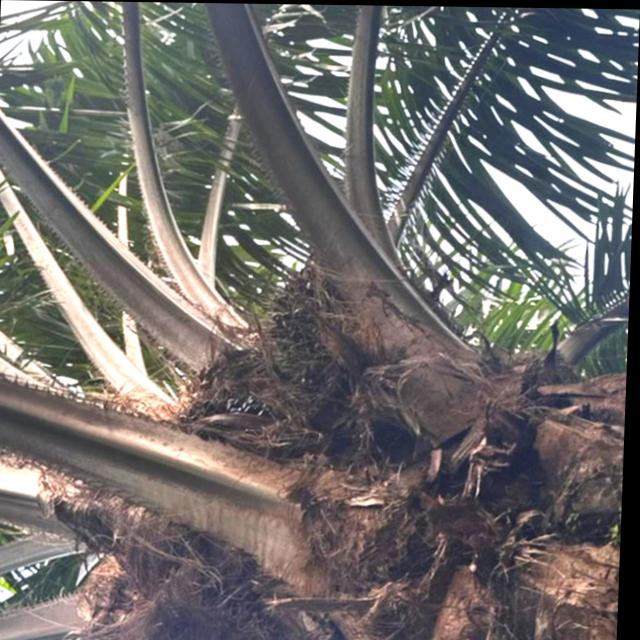unripe: (242, 243, 395, 409)
